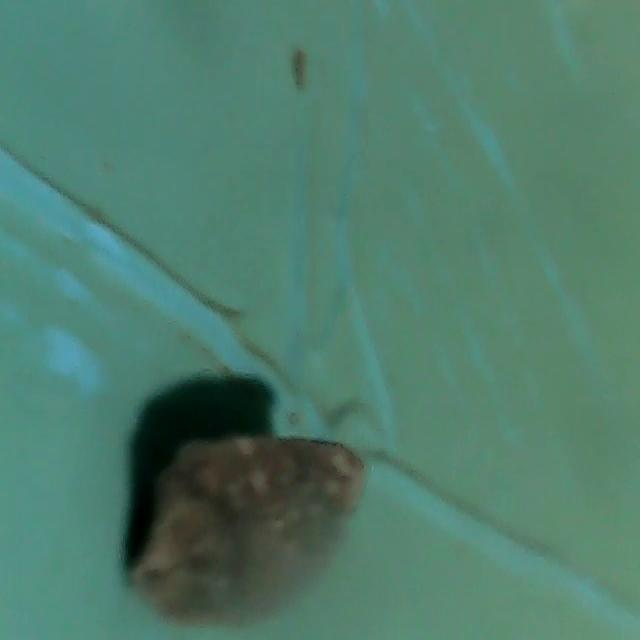rock: (120, 416, 370, 635)
